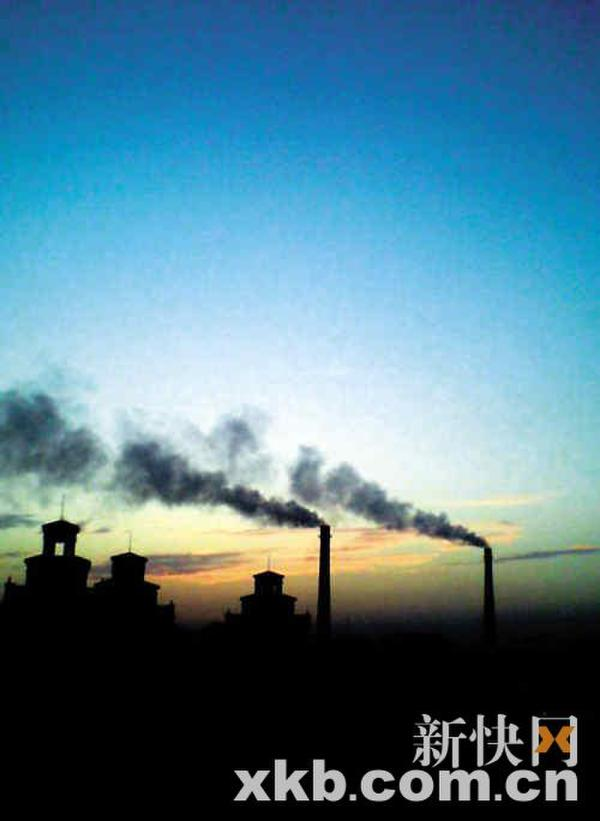dust: (323, 446, 510, 559), (127, 448, 343, 541)
